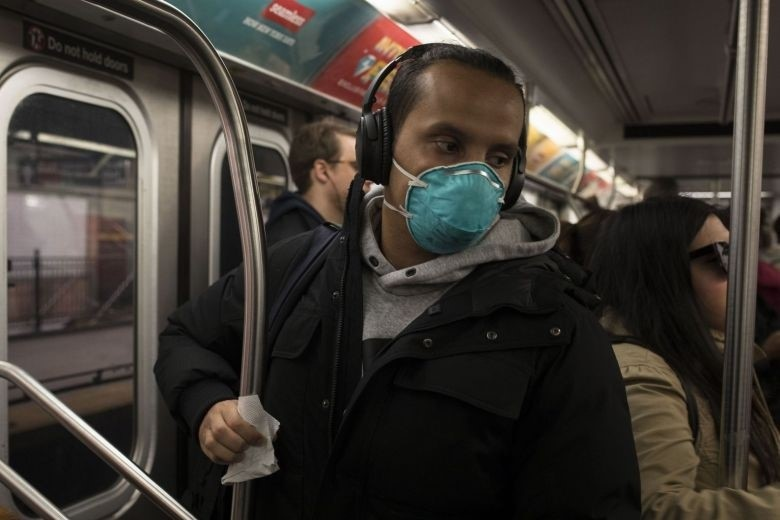face_no_mask: (290, 120, 358, 216)
face_with_mask: (383, 59, 529, 254)
